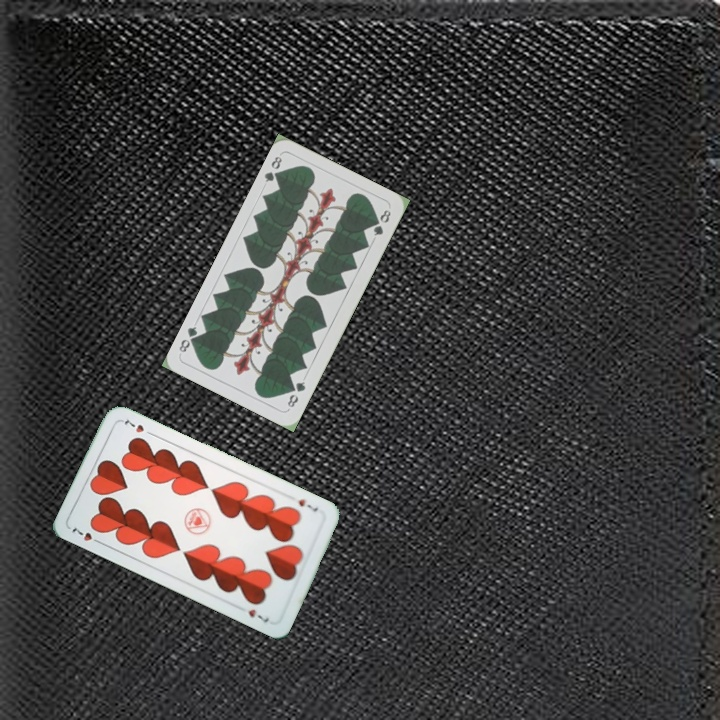G8: (283, 377, 308, 411), (260, 152, 284, 185)
H7: (67, 524, 105, 547), (294, 494, 321, 515)
